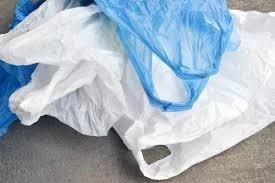LDPE: (0, 0, 275, 183)
